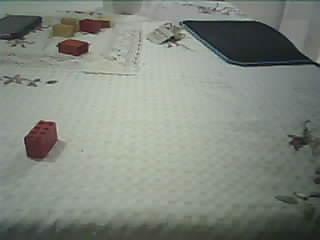lego: (23, 119, 59, 160), (56, 38, 91, 55), (79, 17, 101, 33), (59, 17, 80, 32), (50, 23, 74, 36), (96, 18, 111, 28)
